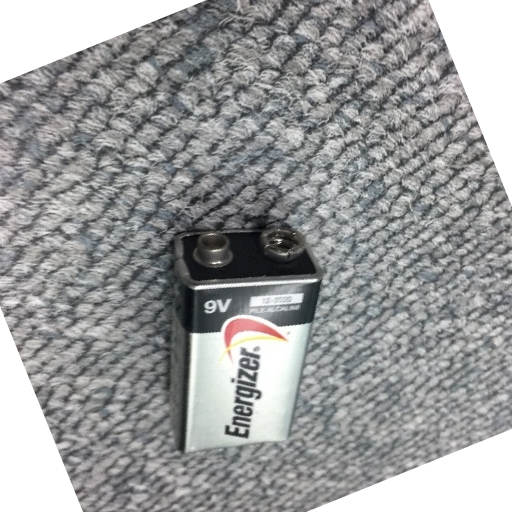Battery_3: (157, 207, 326, 471)
